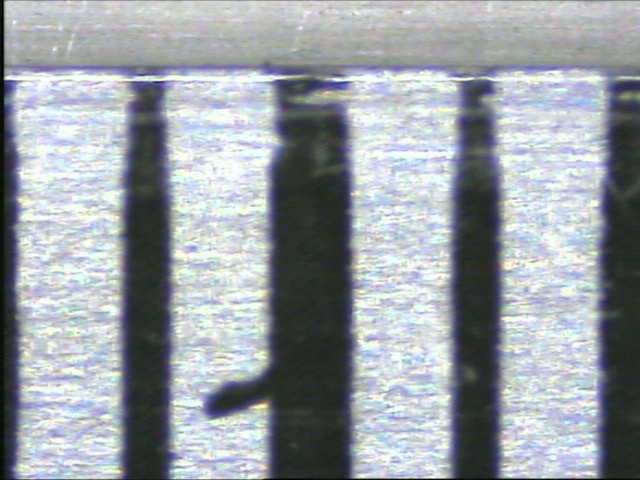line: (266, 70, 355, 474), (447, 71, 504, 475), (119, 75, 174, 476)
